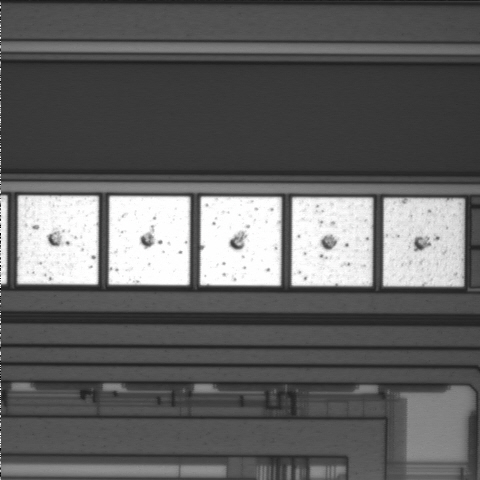pad: (17, 196, 99, 285), (200, 197, 282, 286), (109, 196, 190, 285), (292, 197, 373, 286), (383, 198, 464, 286)
